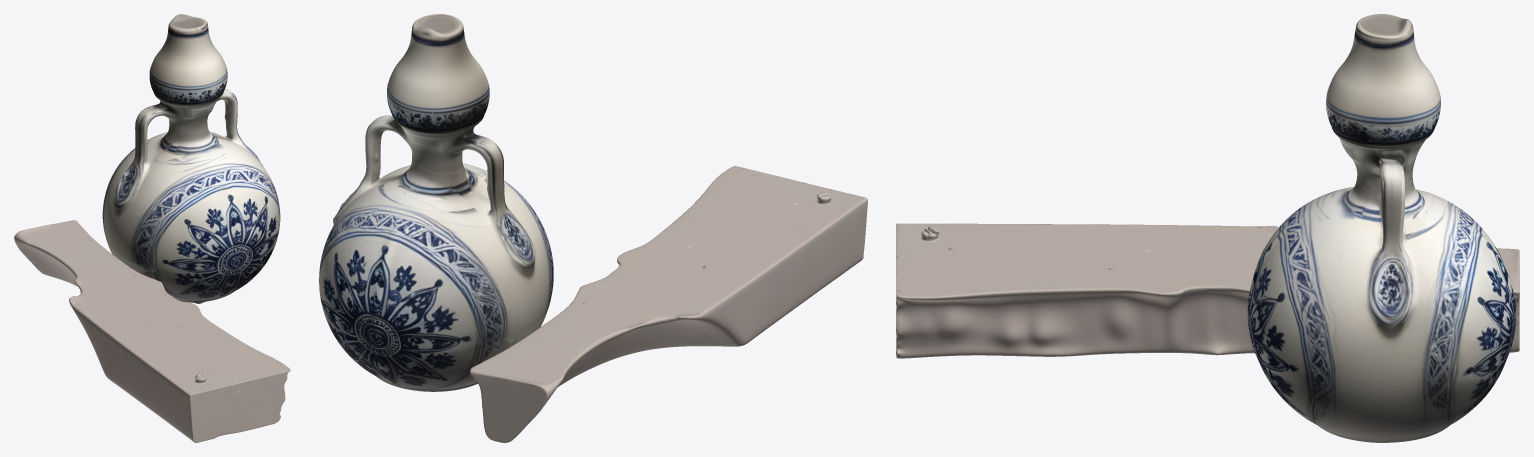
File: yongle-blue-white-flask.glb
3 views of the same model, side by side, from view 1: azimuth 30°, elevation 25°; view 2: azimuth 150°, elevation 25°; view 3: azimuth 270°, elevation 25° (orthographic). The views are drawn at different scales.
Visible parts, largest first — view 1: node_0; view 2: node_0; view 3: node_0.
Part boxes in pixels (<box>): node_0: <box>14,14,290,442</box>; node_0: <box>319,14,867,442</box>; node_0: <box>896,14,1519,442</box>.
Bounding box in the file's own units: 0.5812 × 0.6125 × 0.8778.
Materials: 1 (1 with a texture image).
